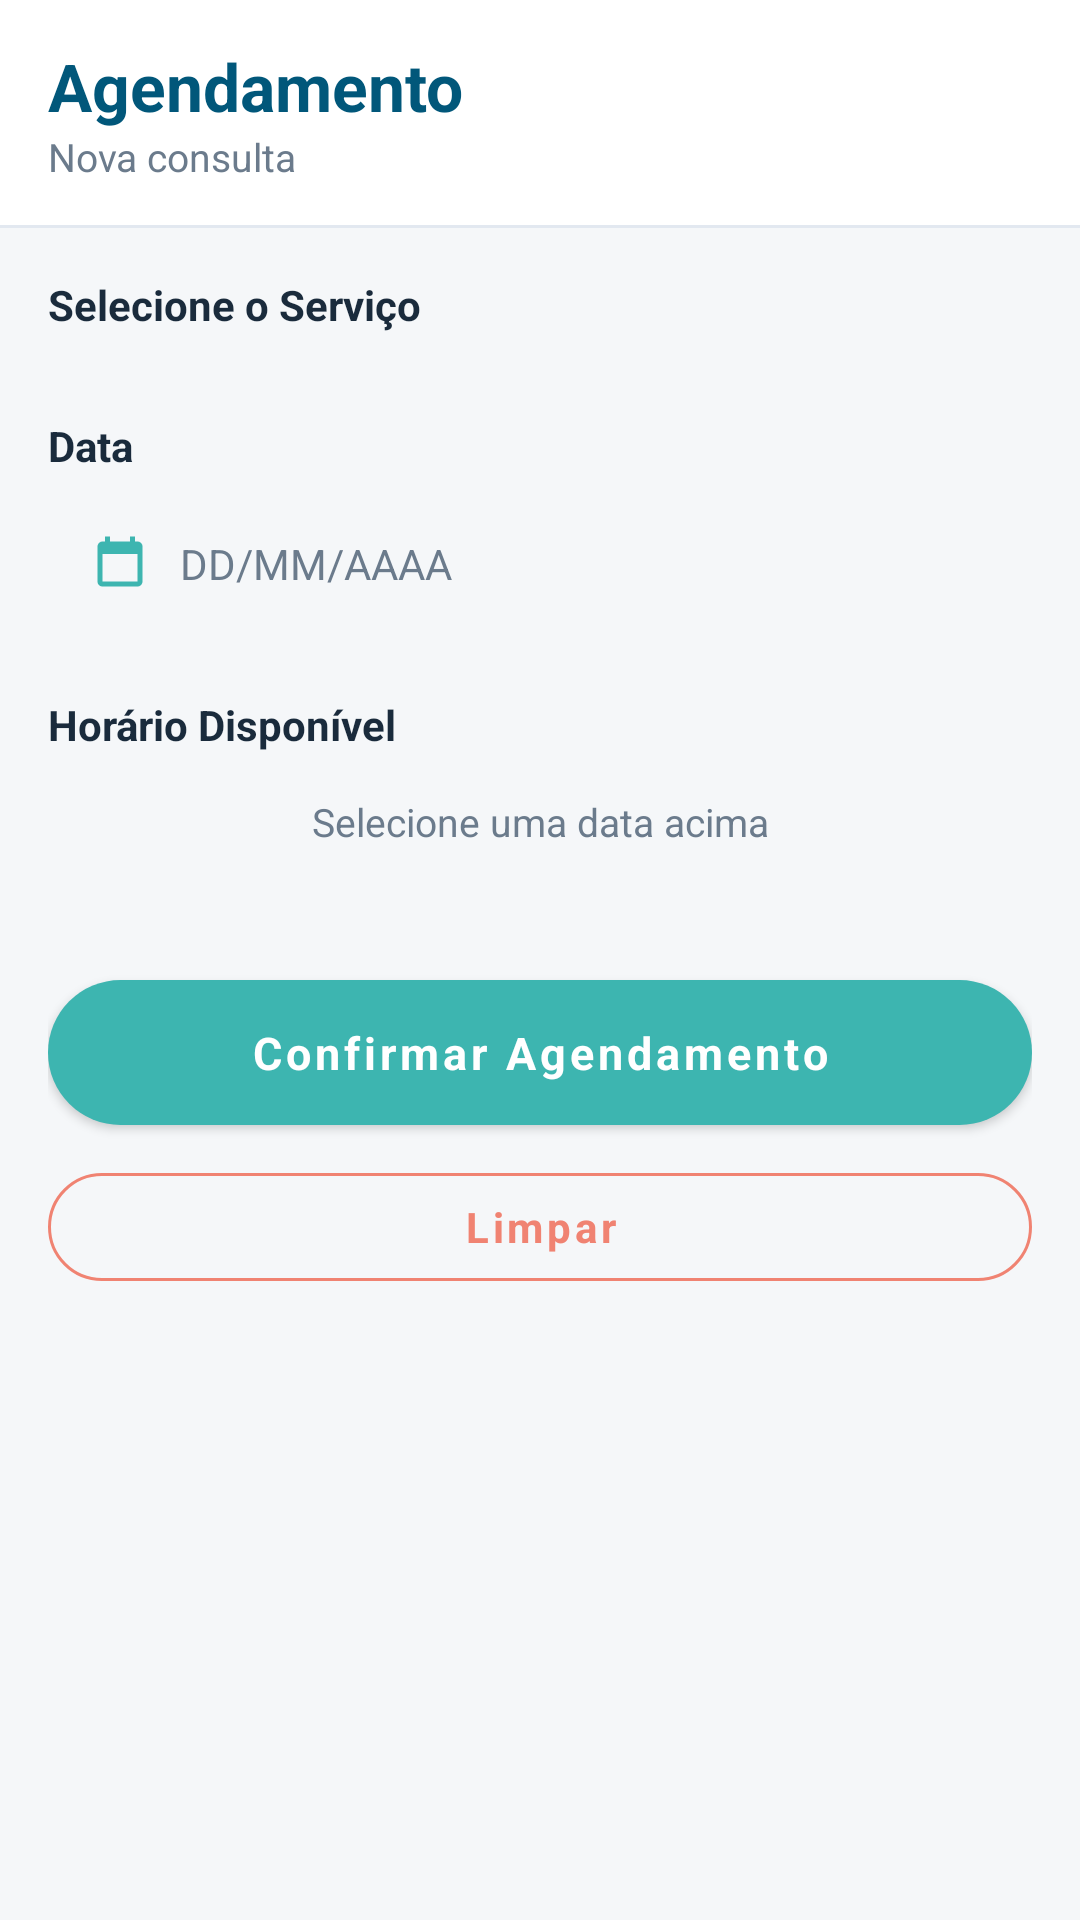

Point at icon controls on the screen. Image size 1080×1920, points as (x=x, y=y).
calendar: (x=120, y=561)
